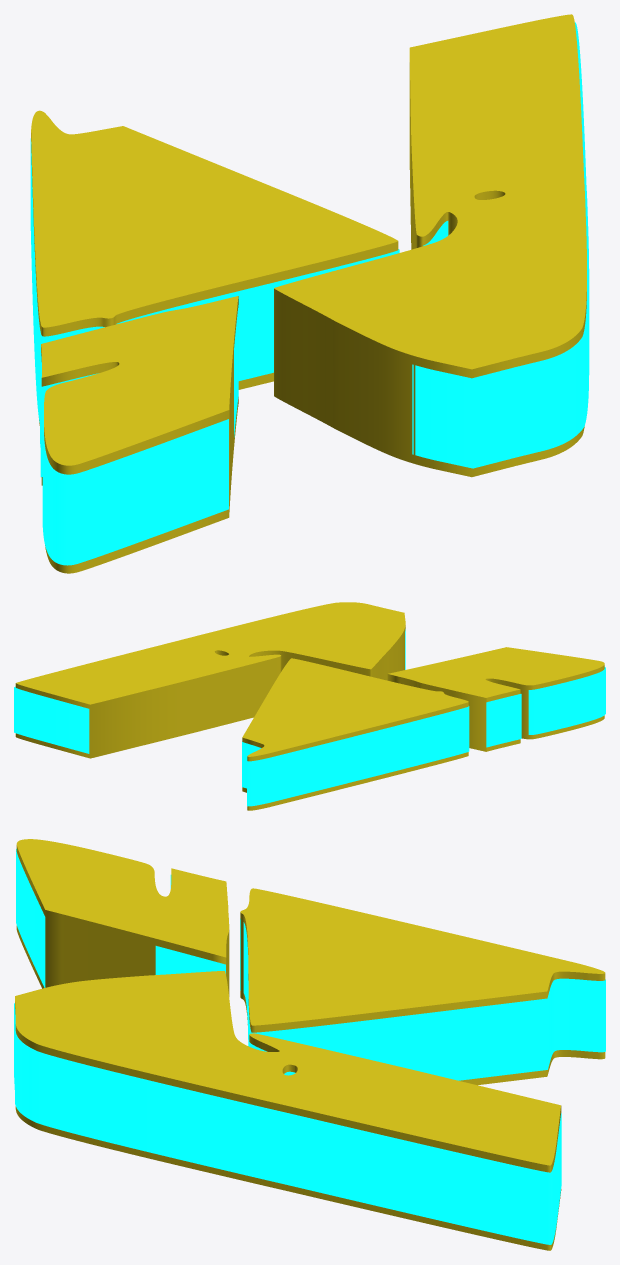
File: LetterN.glb
3 views of the same model, one above another, from view 1: azimuth 30°, elevation 25°; view 2: azimuth 150°, elevation 25°; view 3: azimuth 270°, elevation 25° (orthographic). The views are drawn at different scales.
Parts seen in each view (by area): view 1: Text, Text.001; view 2: Text, Text.001; view 3: Text, Text.001.
Part boxes in pixels (<box>): Text: <box>31,14,586,573</box>; Text.001: <box>30,22,589,565</box>; Text: <box>15,602,604,810</box>; Text.001: <box>14,629,605,806</box>; Text: <box>15,839,605,1250</box>; Text.001: <box>14,849,605,1244</box>.
Bounding box in the file's own units: 0.7187 × 0.087 × 0.5473.
